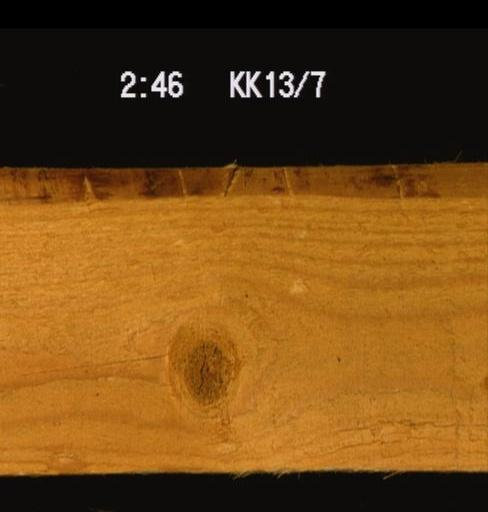sound_knot: (171, 318, 238, 415)
split: (0, 352, 172, 377)
wave: (0, 166, 486, 202)
